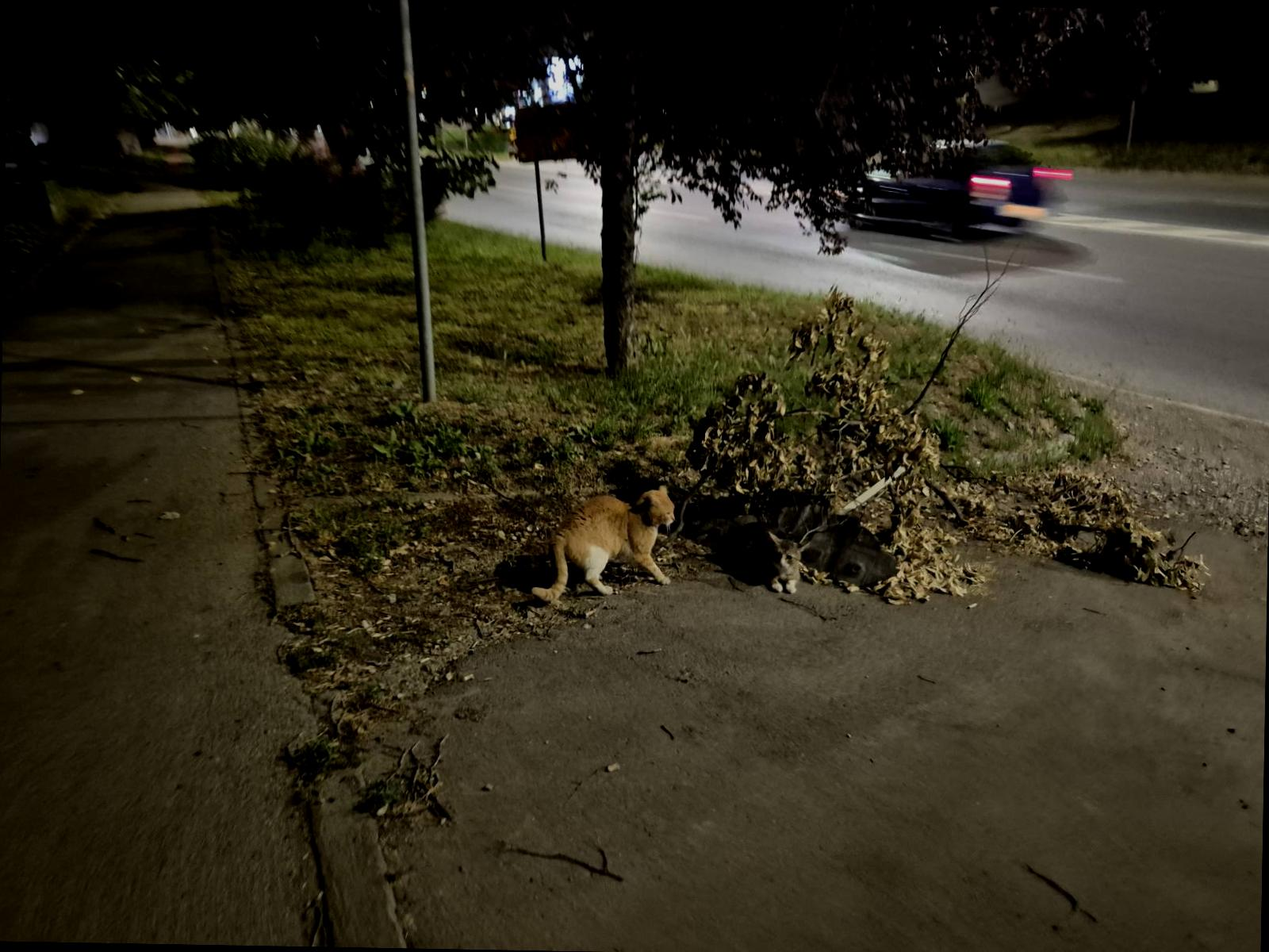macka: (532, 482, 674, 604), (719, 522, 811, 594)
